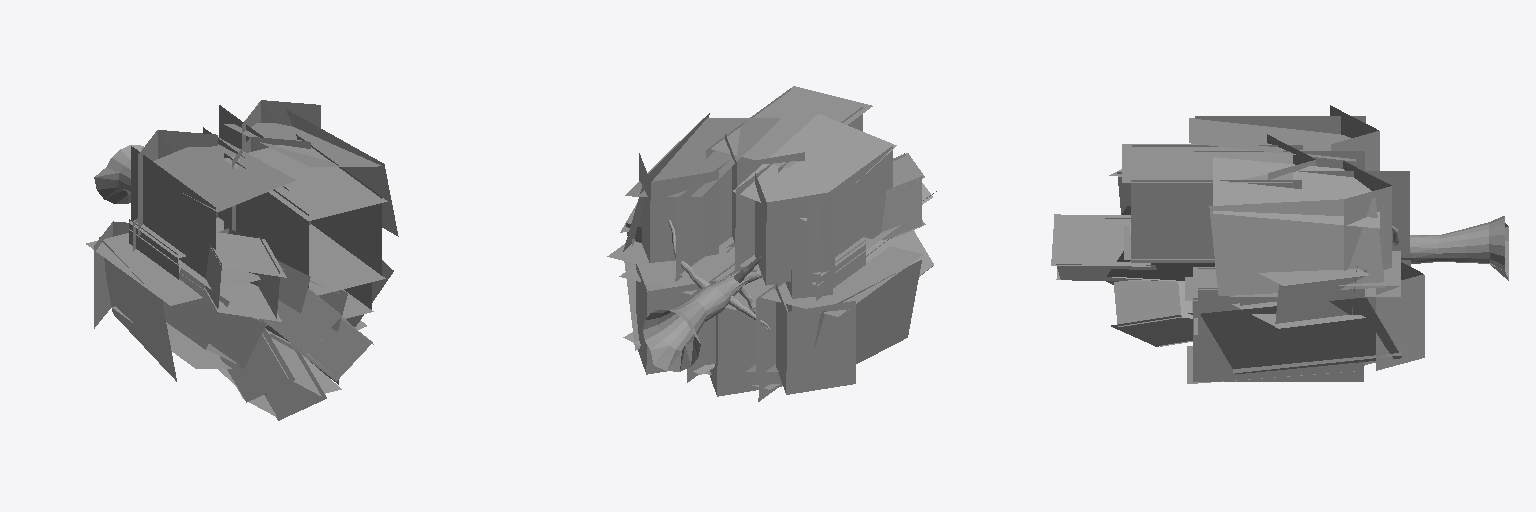
Rendered from realtree_Noah.obj.
3 views of the same model, side by side, from view 1: azimuth 30°, elevation 25°; view 2: azimuth 150°, elevation 25°; view 3: azimuth 270°, elevation 25° (orthographic).
Parts seen in each view (by area): view 1: Cylinder.001_Cylinder.000; view 2: Cylinder.001_Cylinder.000; view 3: Cylinder.001_Cylinder.000.
Boxes of the visible parts, <box> form: Cylinder.001_Cylinder.000: <box>86,100,398,420</box>; Cylinder.001_Cylinder.000: <box>607,86,936,401</box>; Cylinder.001_Cylinder.000: <box>1051,105,1508,383</box>.
Size of the model in its own units: 2418 by 2038 by 3836.